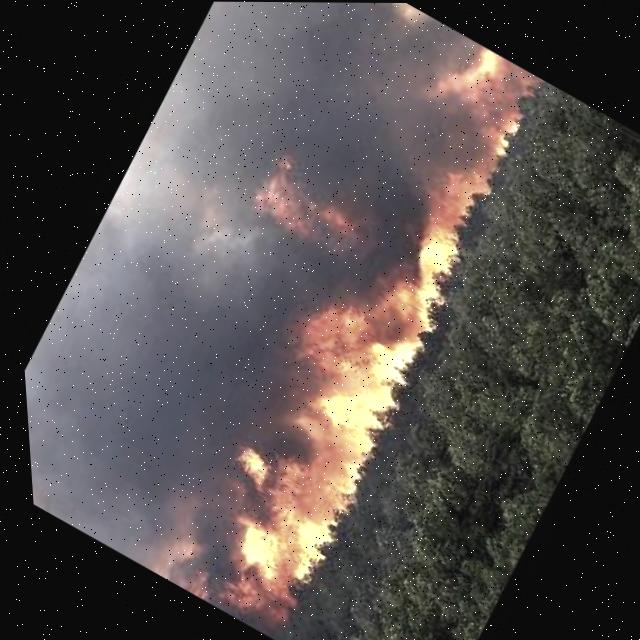Fire: (127, 111, 540, 640), (227, 138, 389, 272), (402, 24, 548, 155)
Smoke: (8, 155, 357, 589), (144, 1, 452, 218)
